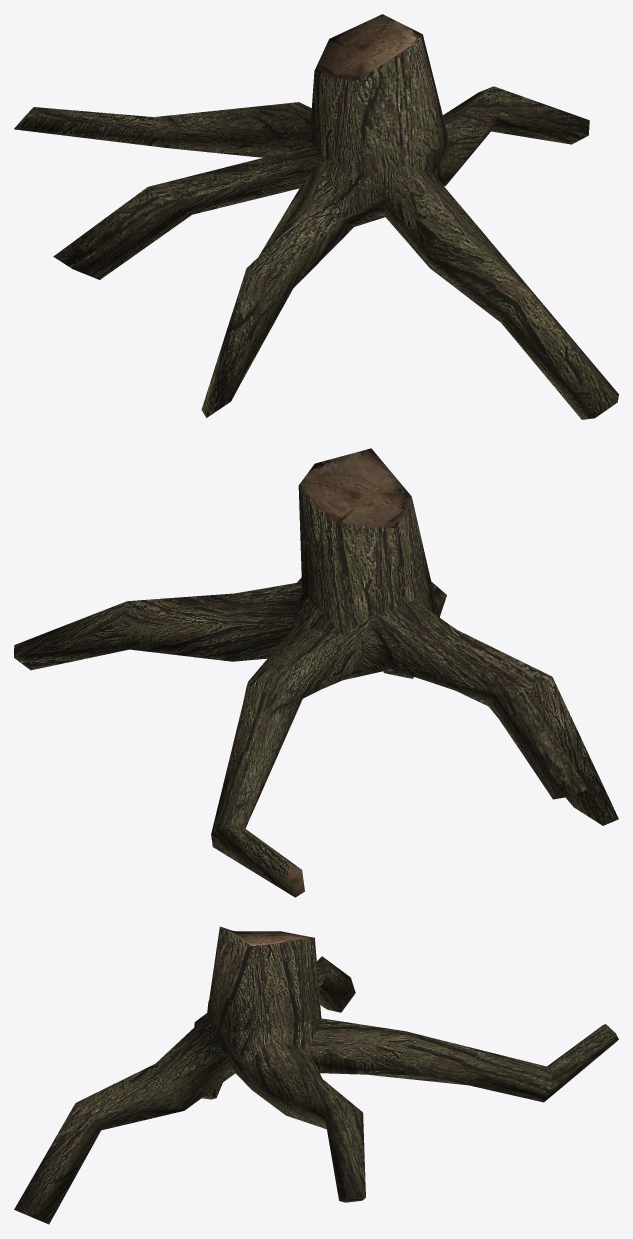
Rendered from OW_LOB_TREE_ROOT_V2.glb.
3 renders of one model, top to bottom at view 1: azimuth 30°, elevation 25°; view 2: azimuth 150°, elevation 25°; view 3: azimuth 270°, elevation 25°, orthographic. The views are drawn at different scales.
Parts seen in each view (by area): view 1: Mesh; view 2: Mesh; view 3: Mesh.
Boxes of the visible parts, left/top/right/bottom form: Mesh: left=14, top=14, right=618, bottom=419; Mesh: left=14, top=448, right=618, bottom=897; Mesh: left=14, top=926, right=618, bottom=1224.
Bounding box in the file's own units: 10.92 × 6.03 × 12.44.
2 materials, 2 textured.
